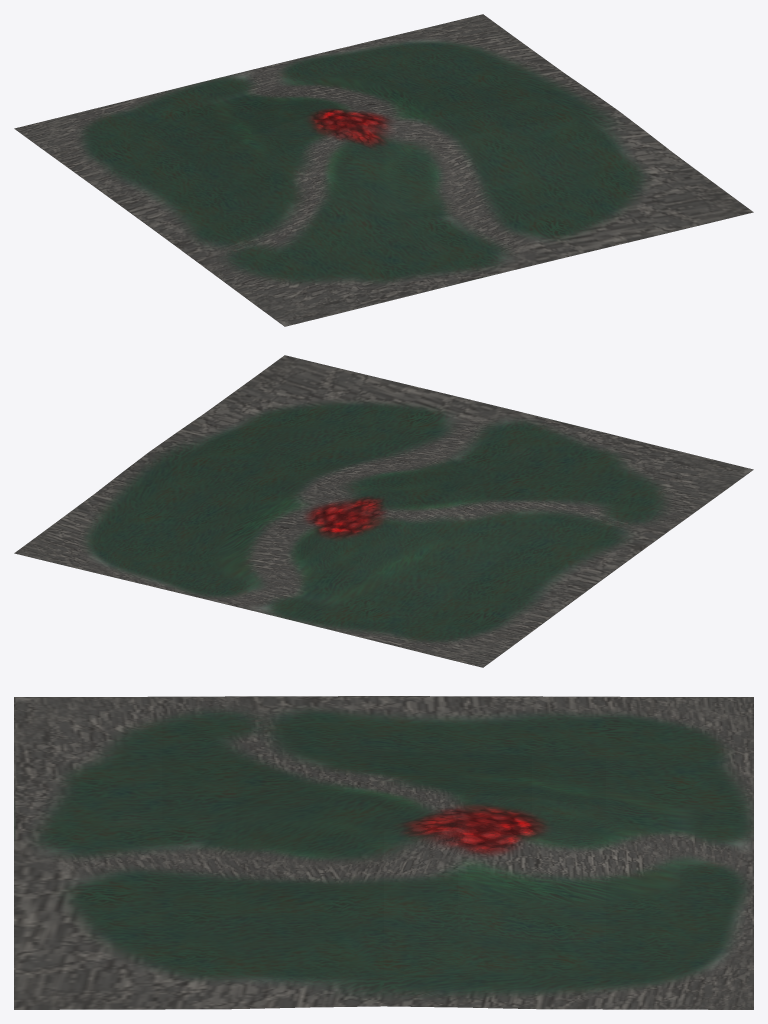
Rendered from GrassyGround.fbx.
3 views of the same model, one above another, from view 1: azimuth 30°, elevation 25°; view 2: azimuth 150°, elevation 25°; view 3: azimuth 270°, elevation 25° (orthographic). The views are drawn at different scales.
Parts seen in each view (by area): view 1: GrassyGround; view 2: GrassyGround; view 3: GrassyGround.
Part boxes in pixels (left/top/right/bottom): GrassyGround: left=14, top=14, right=753, bottom=326; GrassyGround: left=14, top=355, right=753, bottom=667; GrassyGround: left=14, top=696, right=753, bottom=1009.
Bounding box in the file's own units: 4454 × 200 × 4454.
